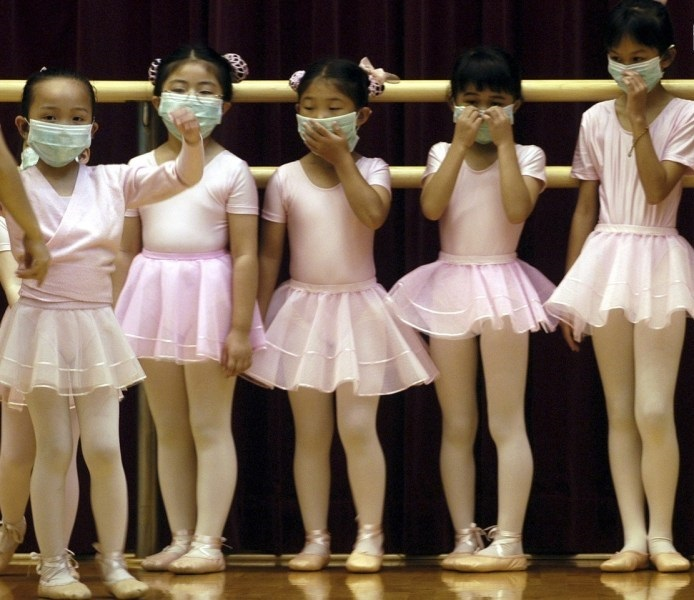face_mask: (26, 84, 91, 163), (160, 66, 222, 138), (296, 81, 357, 150), (456, 83, 511, 137), (608, 37, 660, 91)
